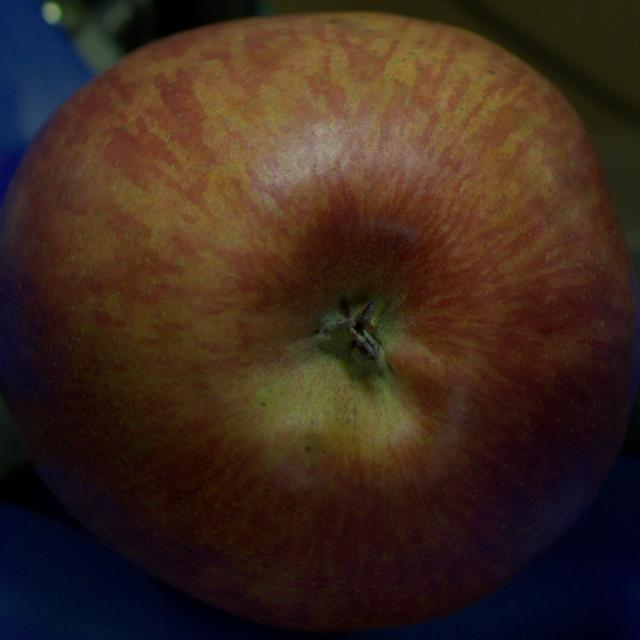apple: (0, 12, 639, 631)
